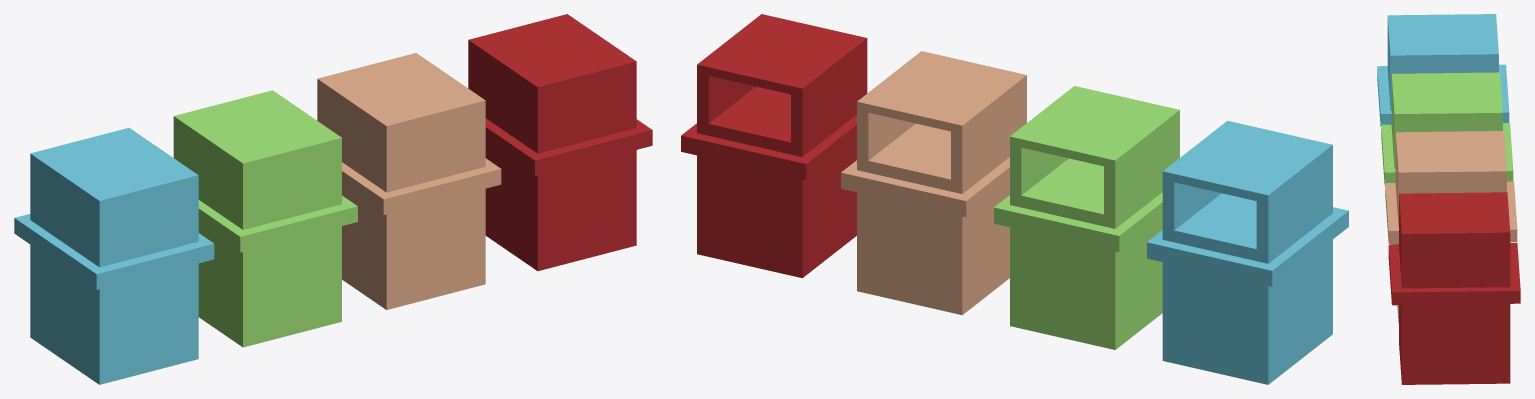
Rendered from bins.fbx.
3 renders of one model, left to right at view 1: azimuth 30°, elevation 25°; view 2: azimuth 150°, elevation 25°; view 3: azimuth 270°, elevation 25°, orthographic. The views are drawn at different scales.
Parts seen in each view (by area): view 1: bins; view 2: bins; view 3: bins.
Boxes of the visible parts, box(x1,y1,x2,y2) form: bins: box(14, 14, 652, 384); bins: box(681, 14, 1348, 384); bins: box(1377, 14, 1520, 384).
Bounding box in the file's own units: 95.38 × 29.49 × 25.38.
